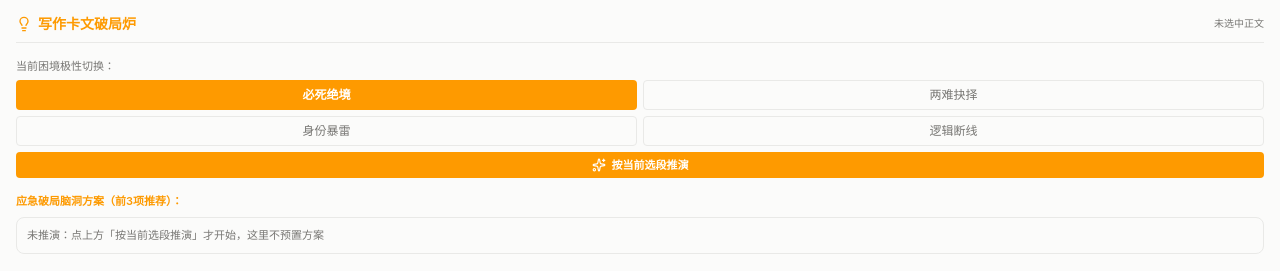
it: BrainstormSpark Components › 抽屉没有选段时点推演只说明缺什么，不编方案
Click the button "按当前选段推演". click: point(640, 165)
box: [16,152,1264,178]
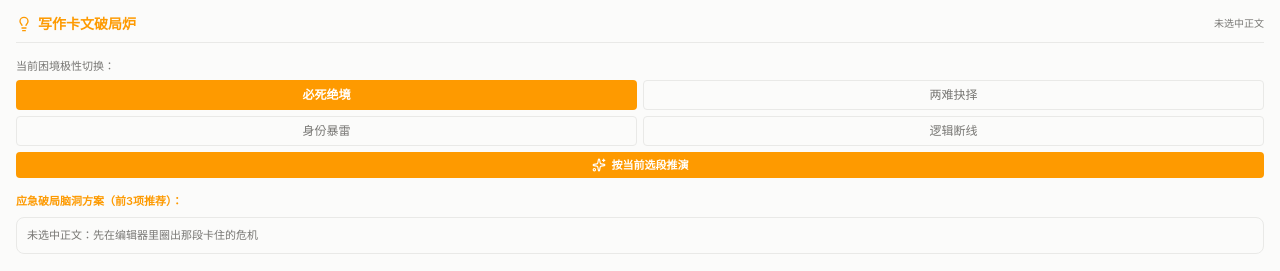
Check: the text "未选中正文" is shown, box [1214,17,1264,31]
Check: the text "未选中正文：先在编辑器里圈出那段卡住的危机" is shown, box [16,217,1264,254]
